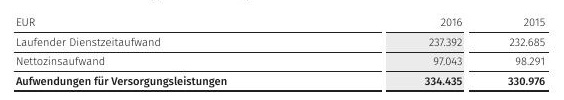table: (0, 0, 564, 100)
